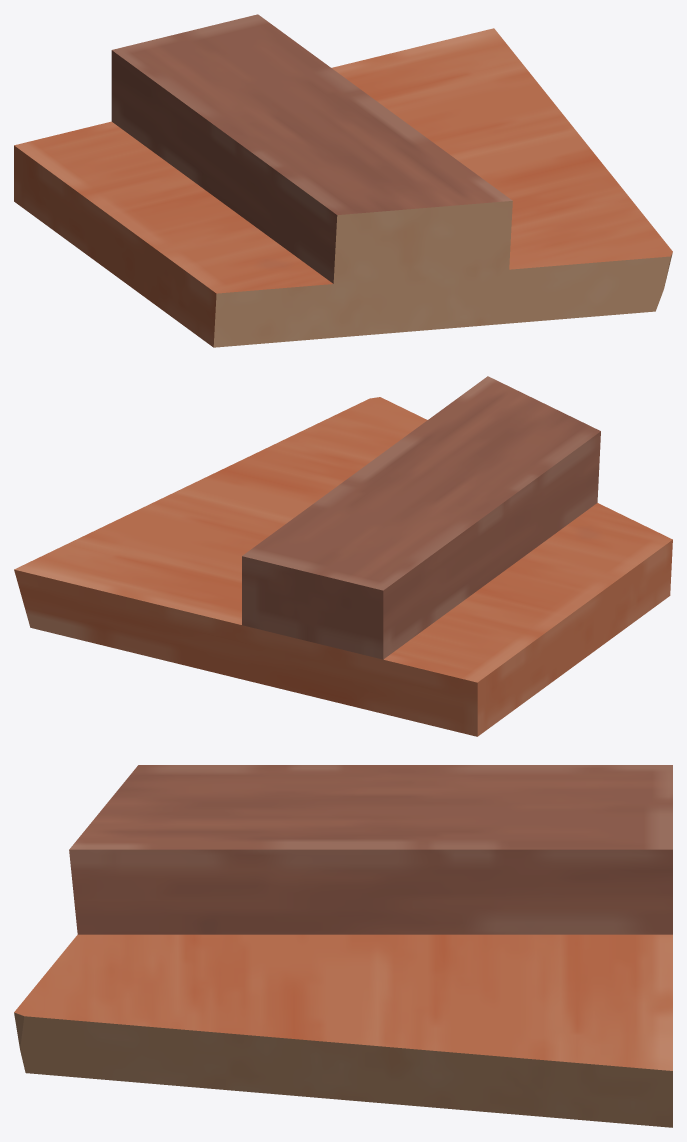
File: bolts_s02.fbx
The picture shows the model from 3 angles, top to bottom: view 1: azimuth 30°, elevation 25°; view 2: azimuth 150°, elevation 25°; view 3: azimuth 270°, elevation 25°; orthographic projection. The views are drawn at different scales.
Parts seen in each view (by area): view 1: bolts_s02; view 2: bolts_s02; view 3: bolts_s02.
Part boxes in pixels (left/top/right/bottom): bolts_s02: left=14, top=14, right=672, bottom=347; bolts_s02: left=14, top=376, right=672, bottom=736; bolts_s02: left=14, top=765, right=672, bottom=1127.
Bounding box in the file's own units: 1.97 × 0.5 × 1.97.
